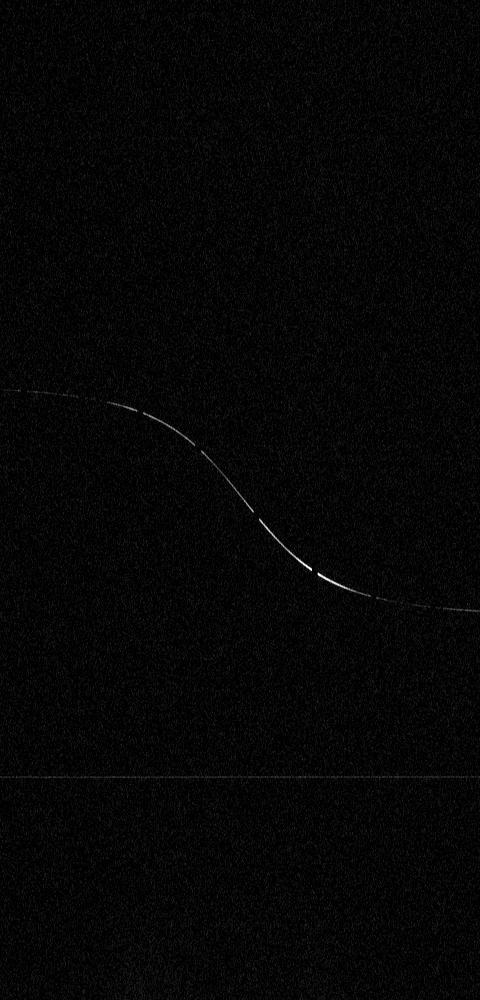signal: (0, 0, 479, 999)
